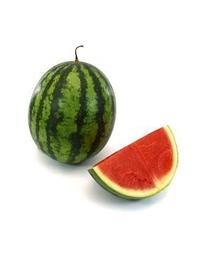watermelon: (27, 60, 116, 165), (89, 123, 179, 203)
